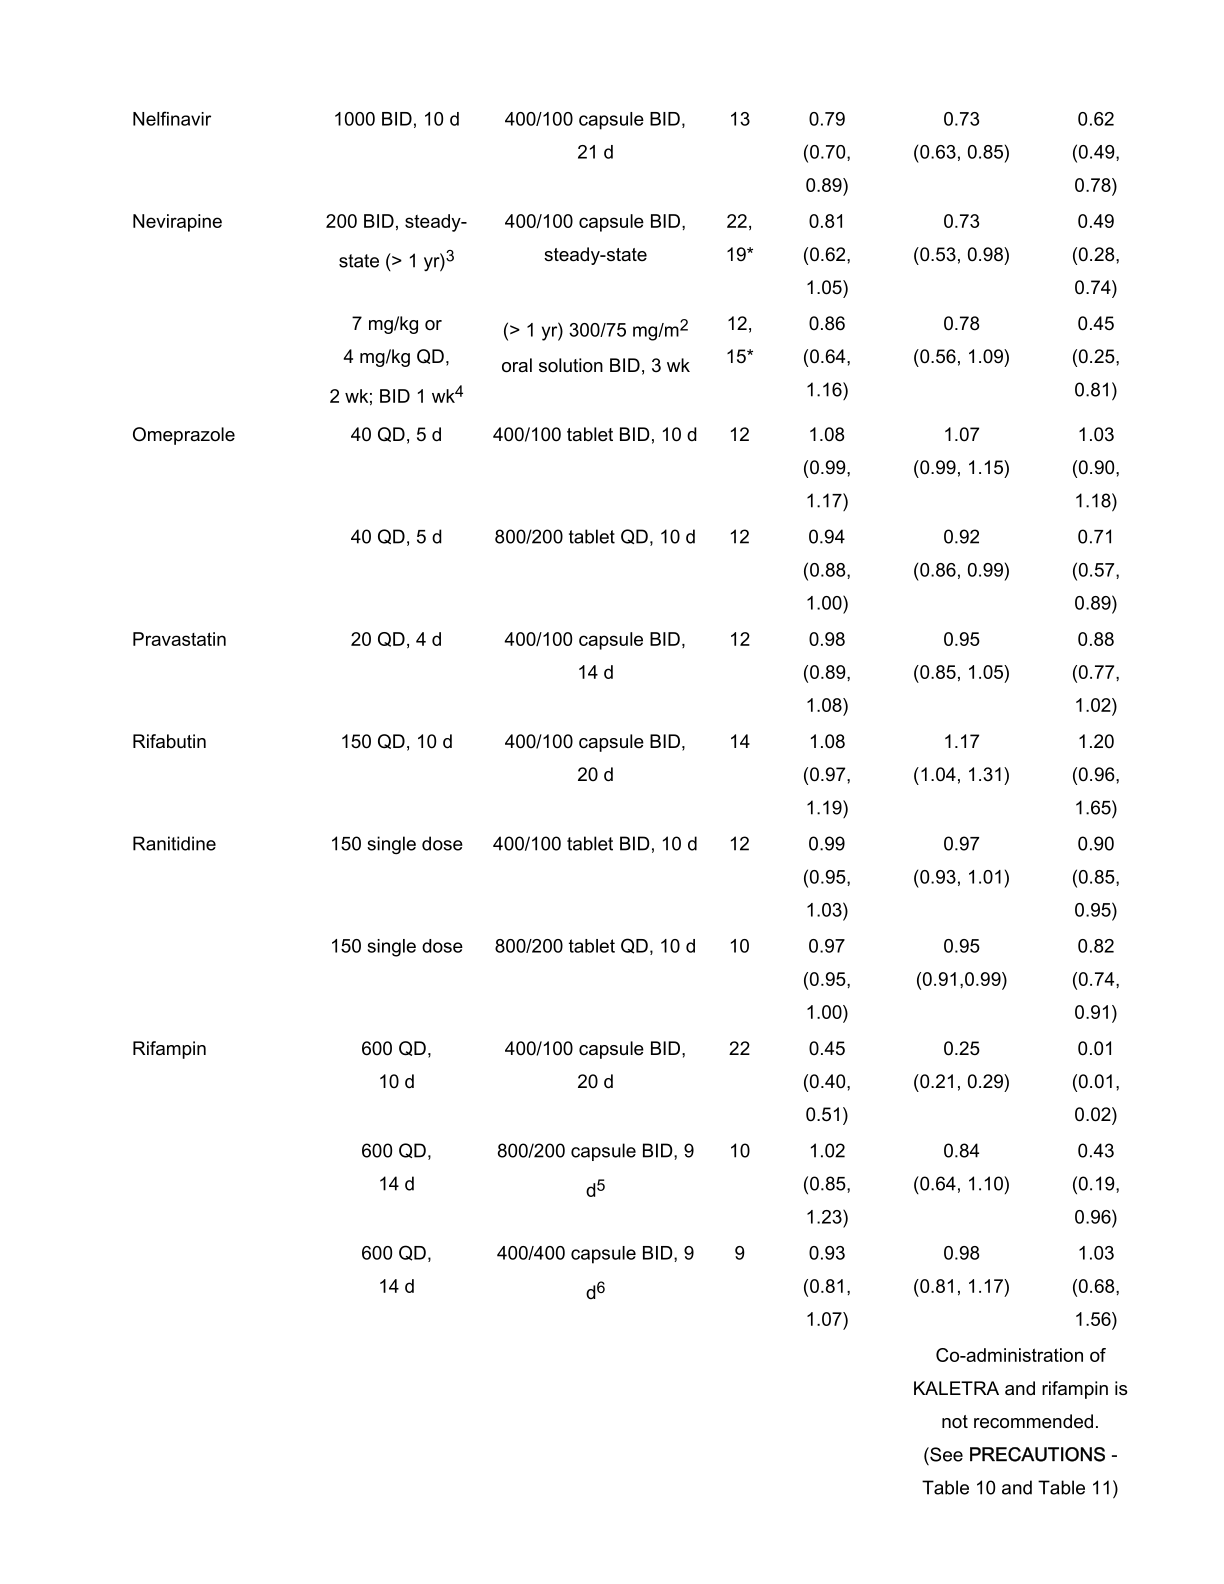nolines: (129, 105, 1121, 1331)
